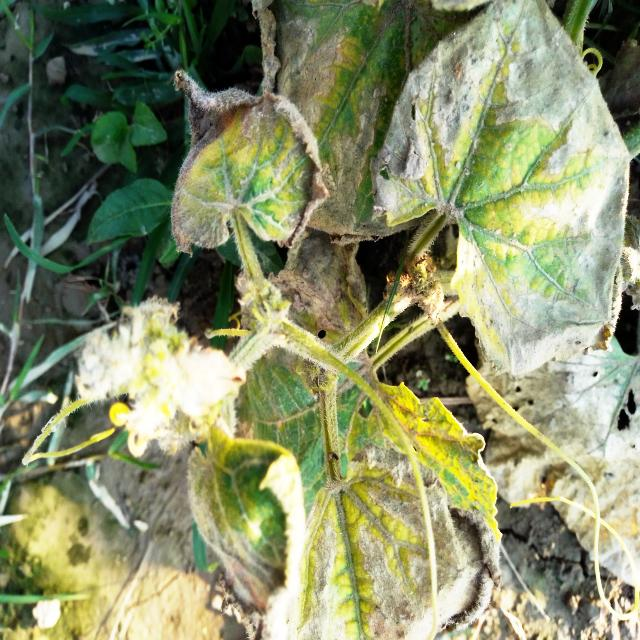Bacterial-Wilt: (462, 336, 640, 589)
